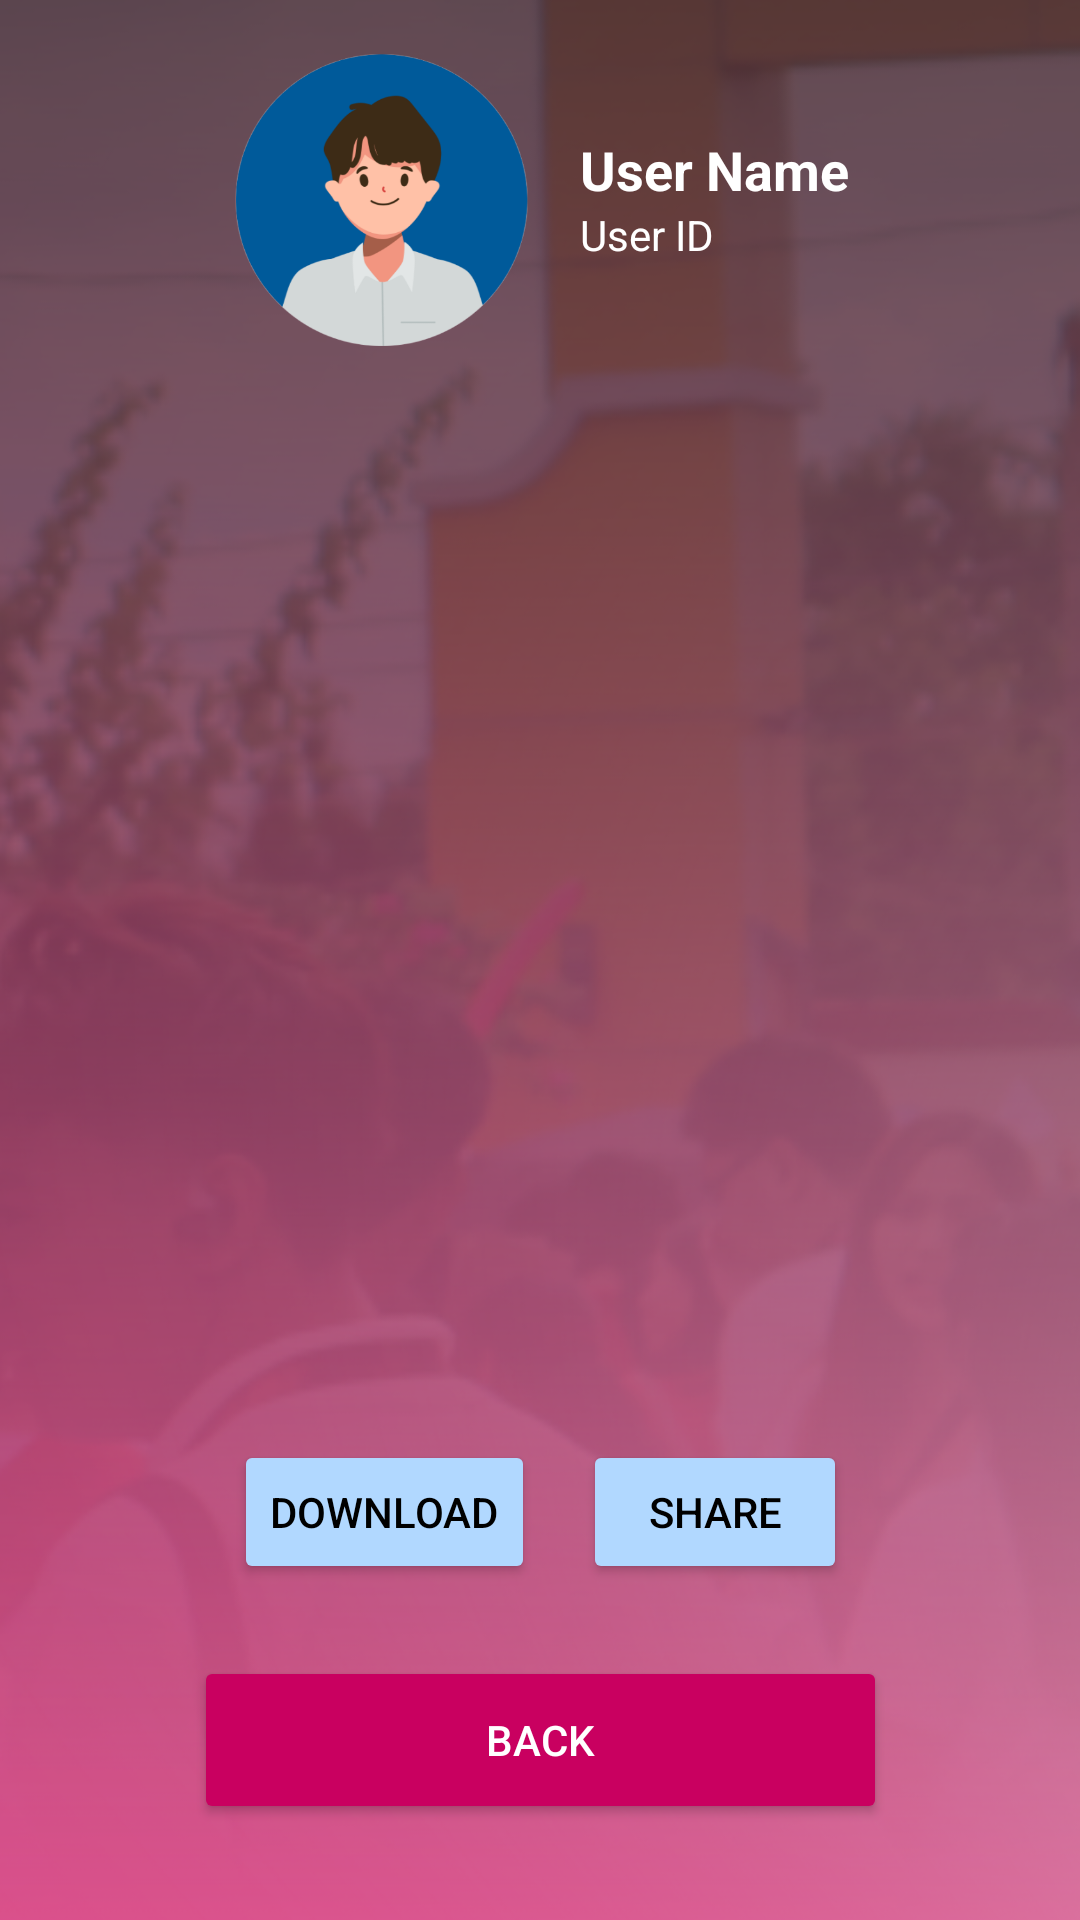

Where icons sit on this 1080px x 1920px app screen, as rect(x1, y1, x2, y2):
Profile Picture: rect(236, 54, 528, 346)
